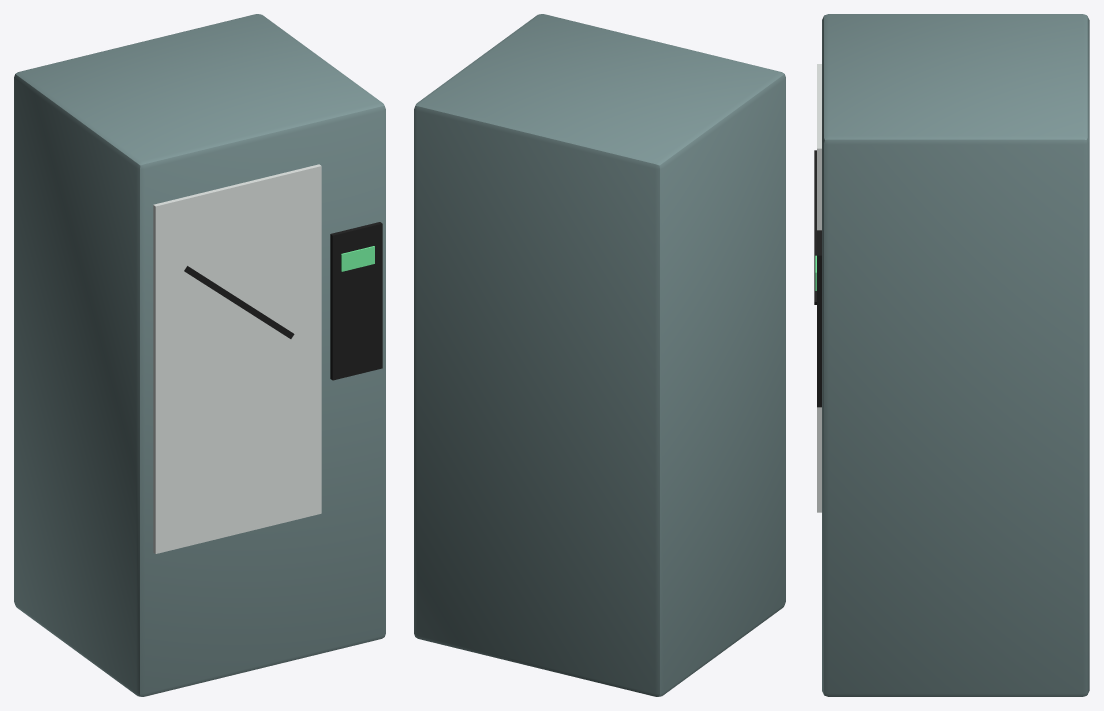
File: vending_machine.glb
3 renders of one model, left to right at view 1: azimuth 30°, elevation 25°; view 2: azimuth 150°, elevation 25°; view 3: azimuth 270°, elevation 25°, orthographic. The views are drawn at different scales.
Parts seen in each view (by area): view 1: vending_machine; view 2: vending_machine; view 3: vending_machine.
Part boxes in pixels (x1,y1,x2,y2): vending_machine: [14, 14, 385, 696]; vending_machine: [414, 14, 785, 696]; vending_machine: [814, 14, 1089, 696].
Size of what is drawn, in the model's own units: 0.9 by 1.85 by 0.8225.
